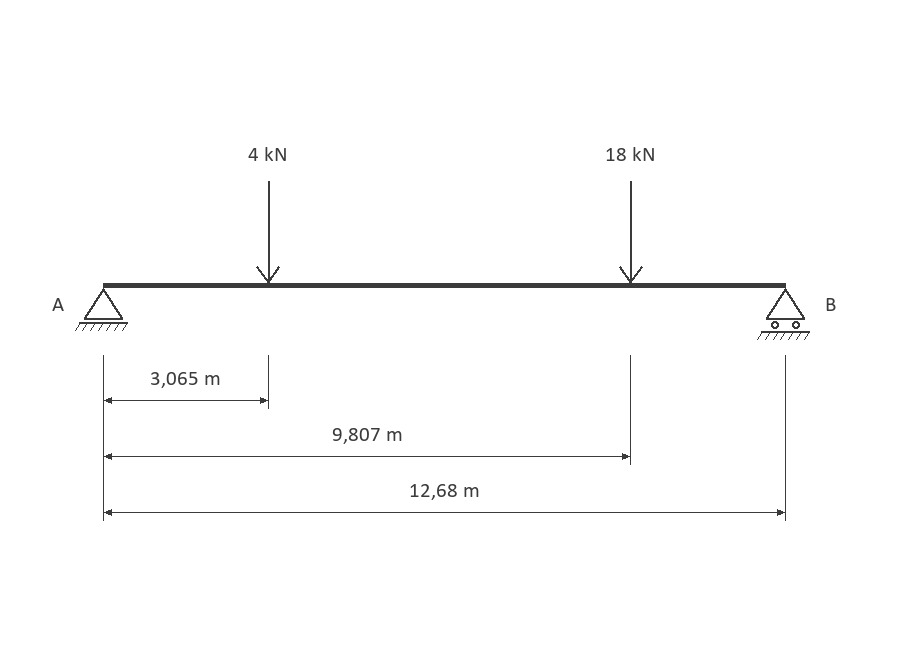pin_support: (75, 288, 128, 331)
point_load: (256, 181, 280, 284), (619, 181, 643, 284)
roller_support: (757, 288, 810, 340)
